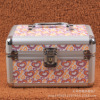shoutibox: (7, 21, 97, 87)
